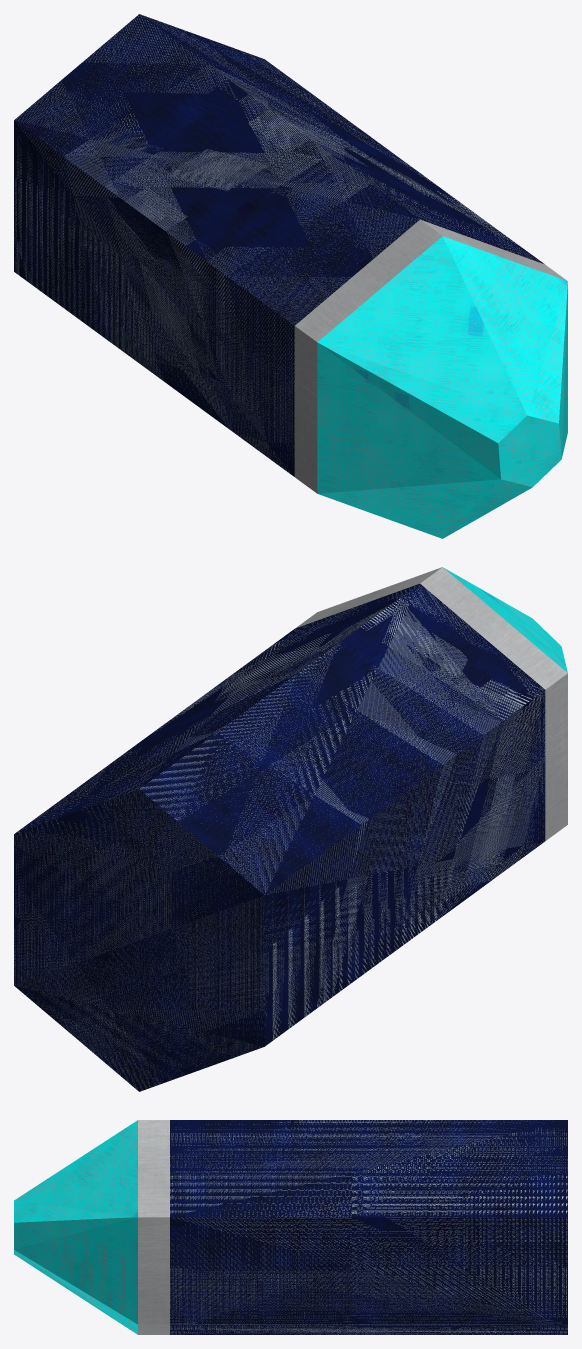
Rendered from bazookaBullet.dae.
3 views of the same model, one above another, from view 1: azimuth 30°, elevation 25°; view 2: azimuth 150°, elevation 25°; view 3: azimuth 270°, elevation 25° (orthographic). The views are drawn at different scales.
Visible parts, largest first — view 1: bazookaBullet (×3); view 2: bazookaBullet (×3); view 3: bazookaBullet (×3).
Boxes of the visible parts, box(x1,y1,x2,y2) form: bazookaBullet (×3): box(14, 14, 567, 538); bazookaBullet (×3): box(14, 567, 567, 1091); bazookaBullet (×3): box(14, 1120, 567, 1334).
Size of the model in its own units: 63.24 by 171 by 73.03.
Materials: 6 (4 with a texture image).
